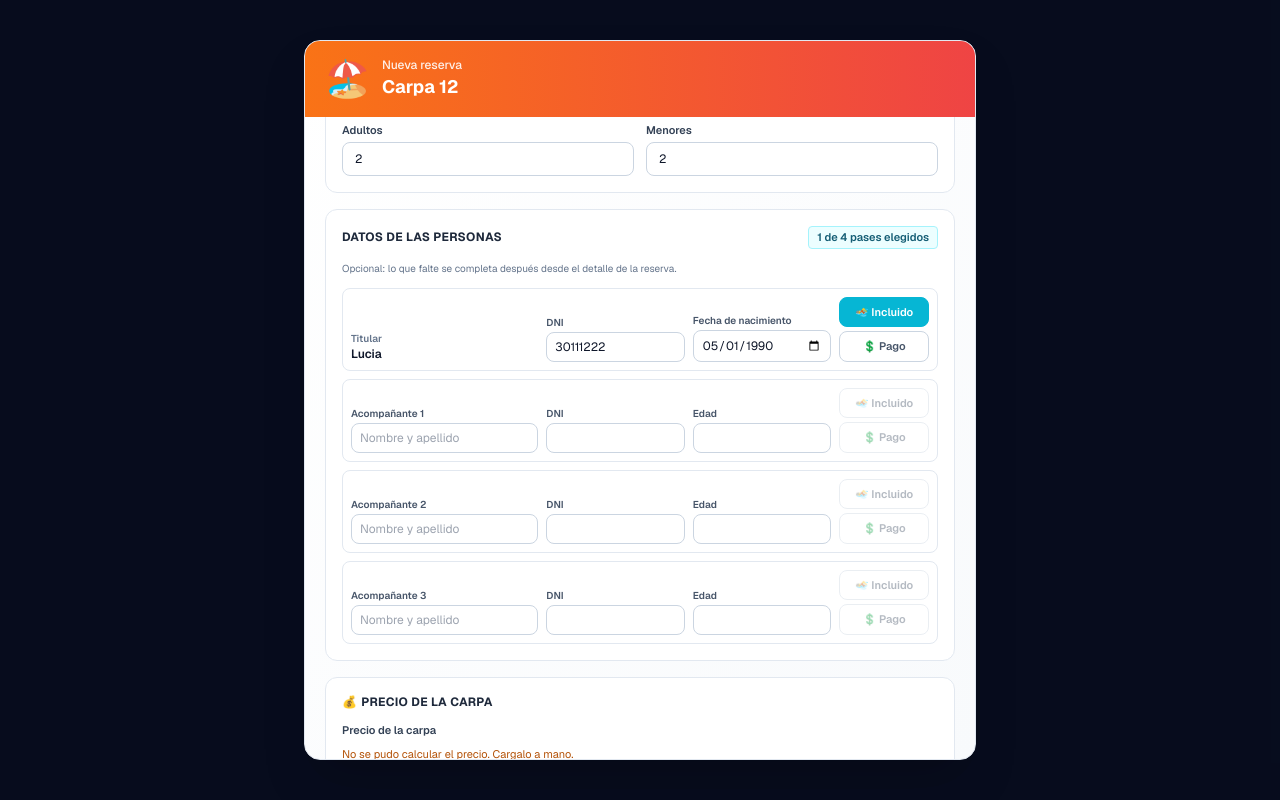
Scenario: personas en el alta de la carpa › con pileta, un click en cada persona le da o le saca el pase
(page scrolled)
Type "Ana" into the field labelled "Acompañante 1" at (445, 438), box top-left (351, 422), bottom-right (538, 452)
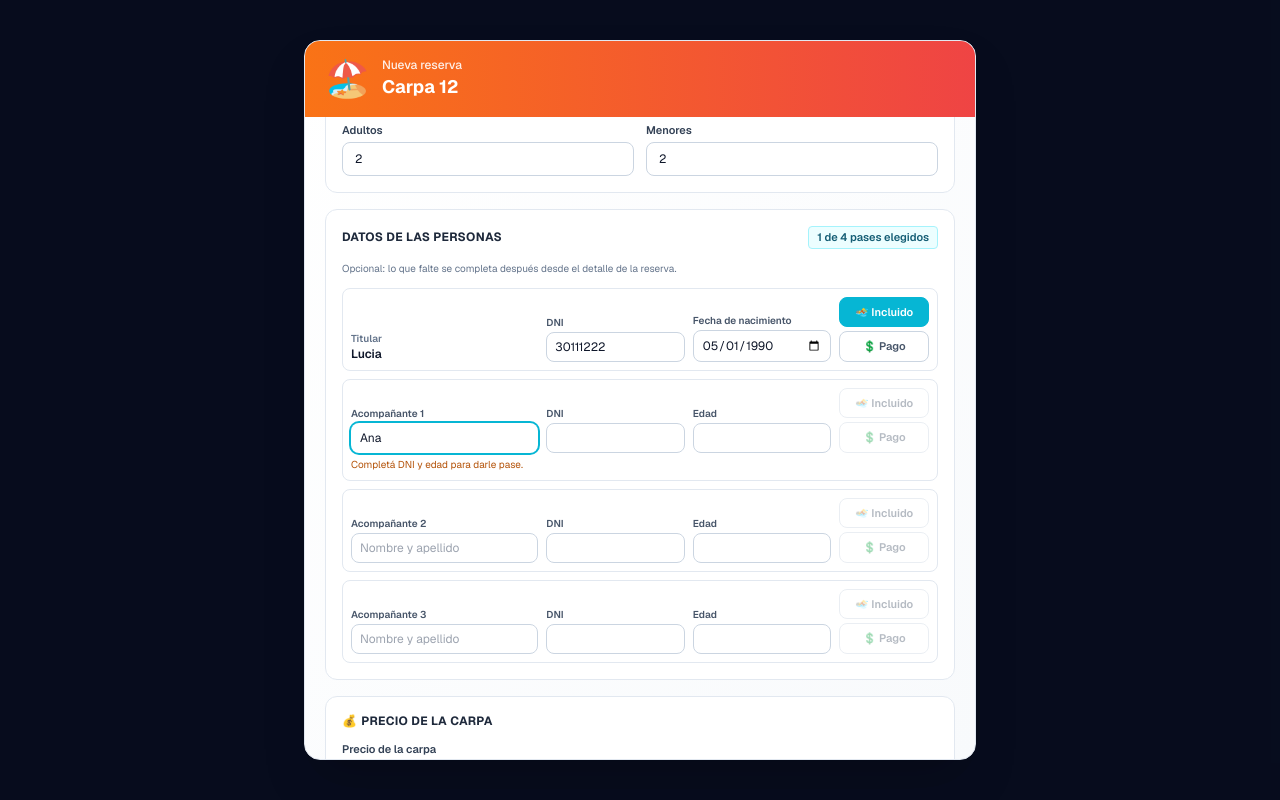
Type "1" into the 2nd field labelled "DNI" at (616, 438), box top-left (546, 422), bottom-right (685, 452)
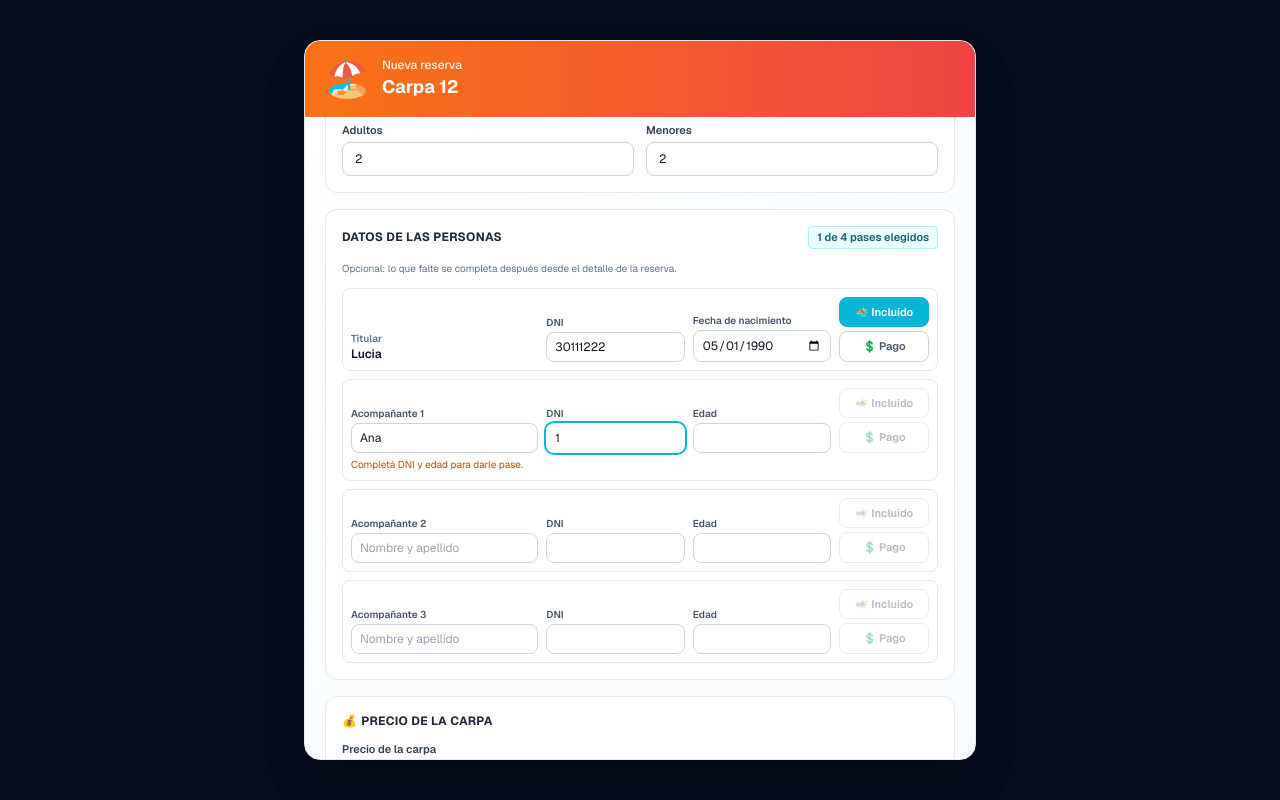
Type "40" into the 1st number field labelled "Edad" at (762, 438), box top-left (693, 422), bottom-right (831, 452)
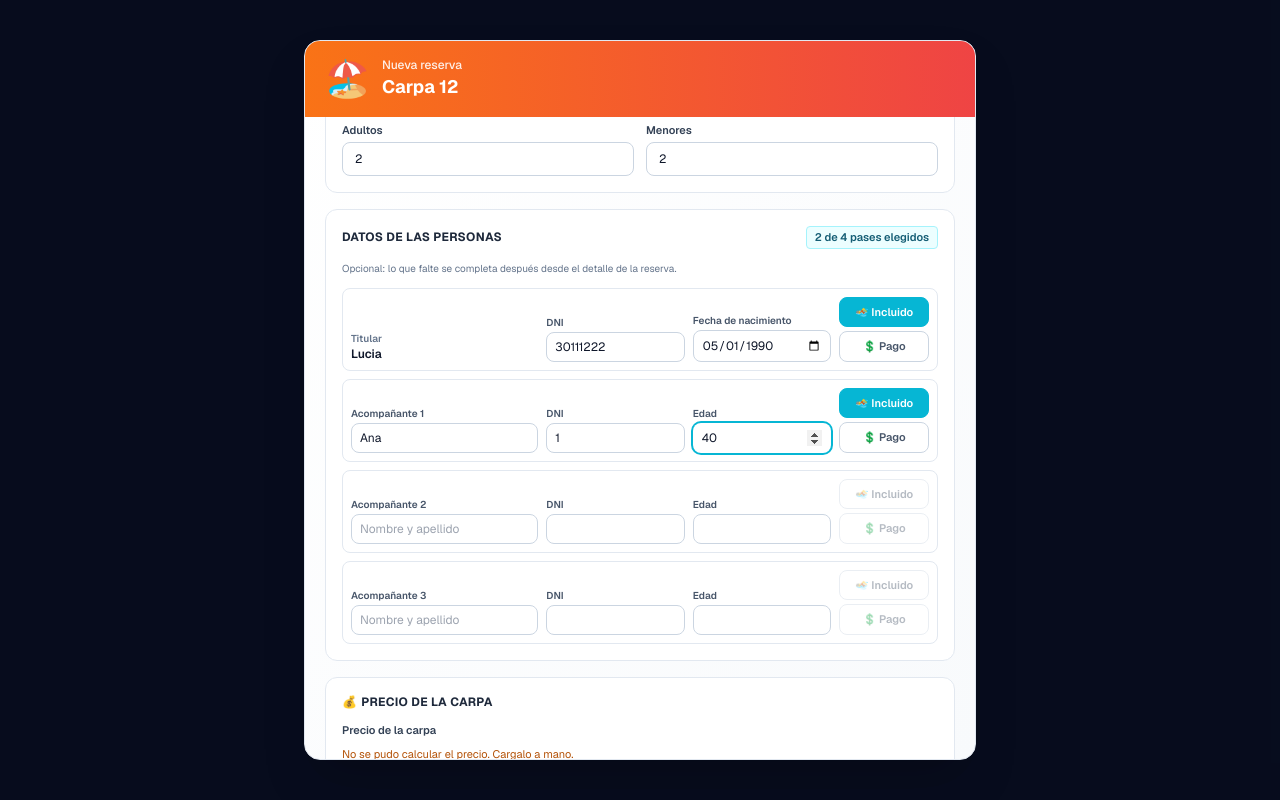
Now the text "2 de 4 pases elegidos" is shown, box top-left (806, 226), bottom-right (938, 248)
Click the button with aria-label "Pase de pileta para Ana" at (884, 403), box top-left (839, 388), bottom-right (929, 418)
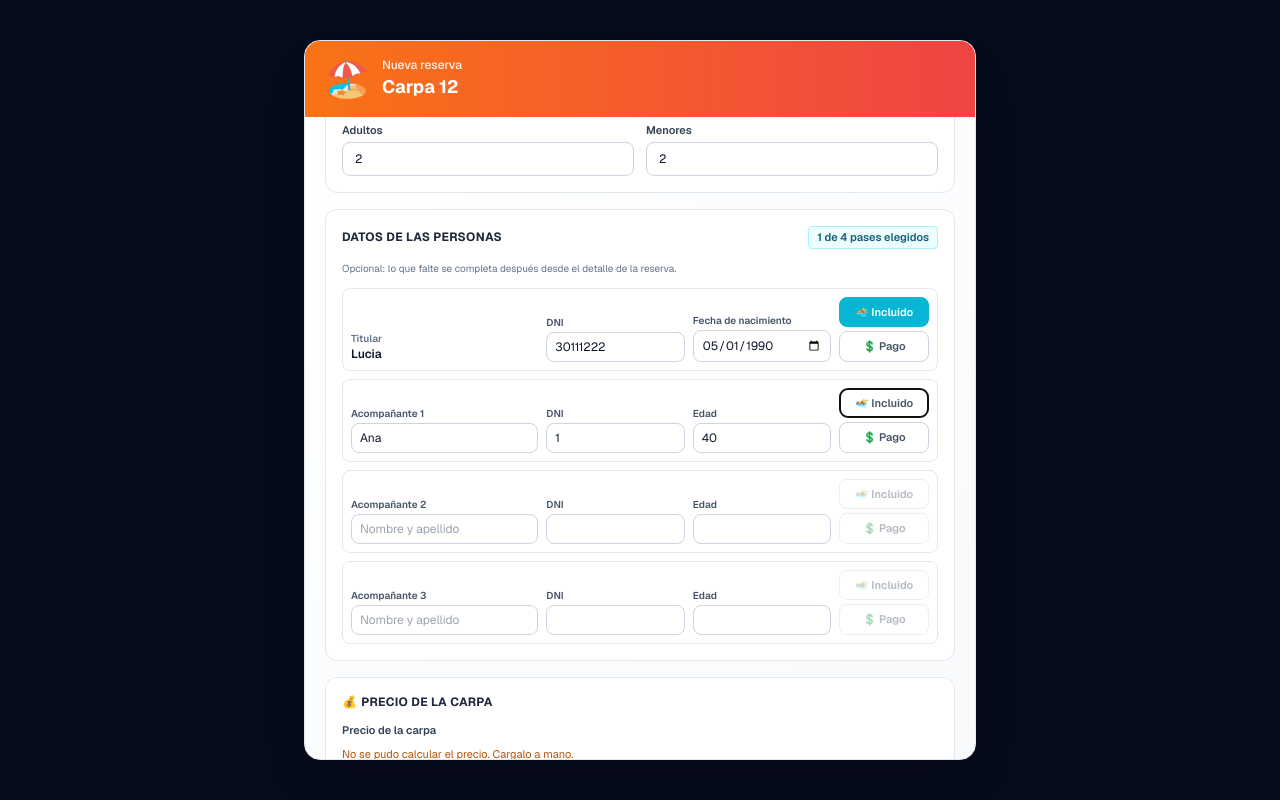
Now the text "1 de 4 pases elegidos" is shown, box top-left (808, 226), bottom-right (938, 248)
